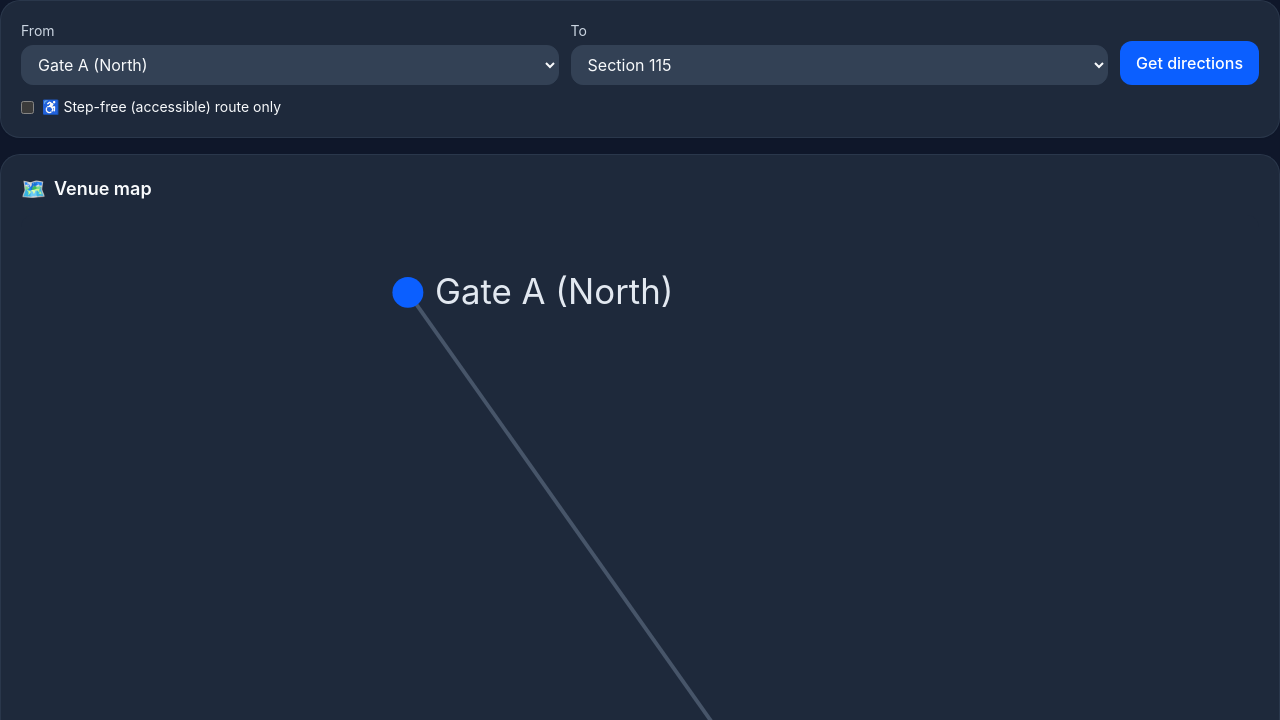
Test: Wayfinding › requests a route and shows ordered steps with ETA
Step 1. Click the button "Get directions" → x=1190, y=63, box [1120,41,1259,85]
(page scrolled)
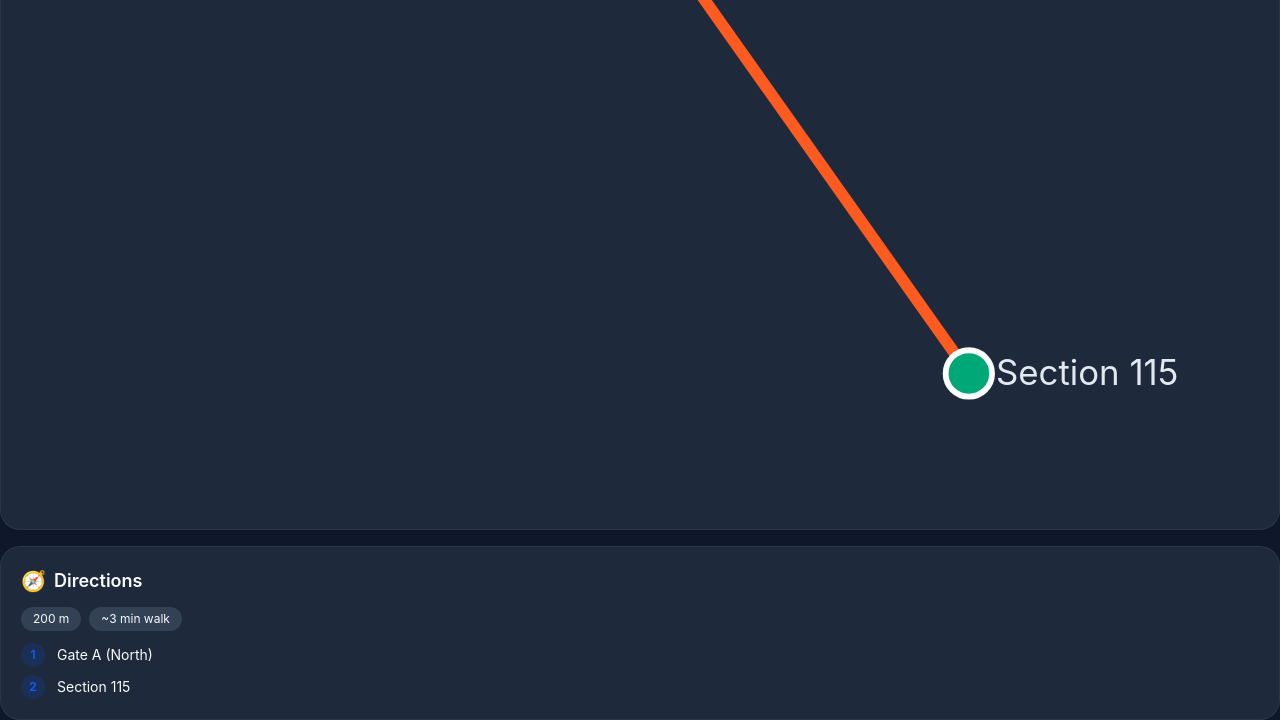
Result: the text "~3 min walk" is shown at [89,607,182,631]
Result: the list shows "Section 115" at [57,678,130,695]
